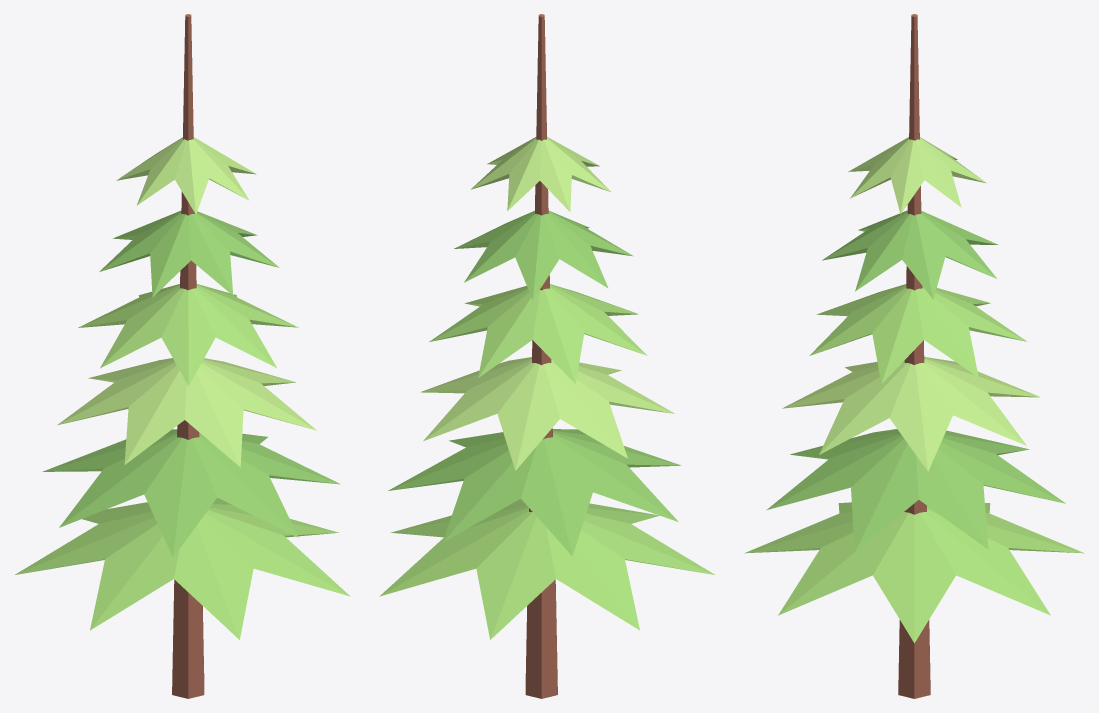
Rendered from pine-tall-1.glb.
3 views of the same model, side by side, from view 1: azimuth 30°, elevation 25°; view 2: azimuth 150°, elevation 25°; view 3: azimuth 270°, elevation 25° (orthographic).
Visible parts, largest first — view 1: pine-tall-1-leaf2, pine-tall-1-leaf1, pine-tall-1-leaf4, pine-tall-1-barkred; view 2: pine-tall-1-leaf2, pine-tall-1-leaf1, pine-tall-1-leaf4, pine-tall-1-barkred; view 3: pine-tall-1-leaf2, pine-tall-1-leaf1, pine-tall-1-leaf4, pine-tall-1-barkred.
Boxes of the visible parts, box(x1,y1,x2,y2) form: pine-tall-1-leaf2: box(15, 284, 350, 639); pine-tall-1-leaf1: box(42, 210, 340, 557); pine-tall-1-leaf4: box(57, 137, 316, 467); pine-tall-1-barkred: box(172, 14, 204, 698); pine-tall-1-leaf2: box(379, 284, 714, 639); pine-tall-1-leaf1: box(388, 210, 681, 556); pine-tall-1-leaf4: box(420, 137, 674, 470); pine-tall-1-barkred: box(525, 14, 557, 698); pine-tall-1-leaf2: box(744, 284, 1084, 643); pine-tall-1-leaf1: box(766, 210, 1065, 552); pine-tall-1-leaf4: box(782, 137, 1040, 471); pine-tall-1-barkred: box(898, 14, 930, 698).
Size of the model in its own units: 2.85 by 6.4 by 2.92.
